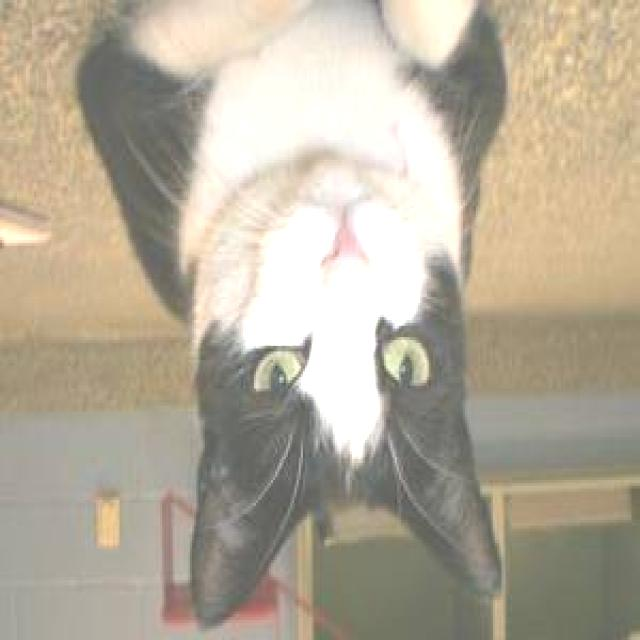Kucing: (70, 18, 580, 640)
